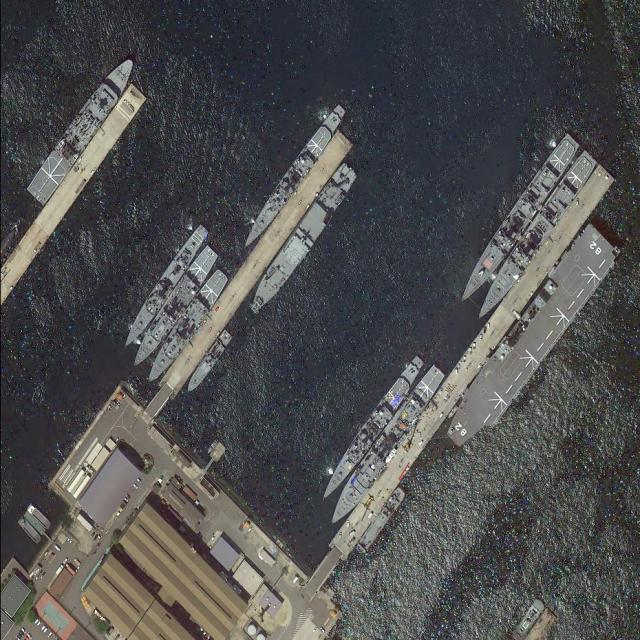Auxiliary Ships: (239, 164, 362, 322)
Destroyer: (436, 222, 621, 457), (451, 129, 586, 309), (469, 146, 602, 328), (322, 364, 447, 526), (313, 354, 429, 505), (237, 102, 349, 253), (114, 224, 213, 353), (125, 244, 224, 370), (137, 267, 233, 390)
Dock: (306, 165, 616, 588), (140, 131, 357, 423)
Landing: (23, 52, 144, 206)
Other Warship: (354, 488, 407, 557), (183, 329, 235, 395), (511, 597, 547, 640)
